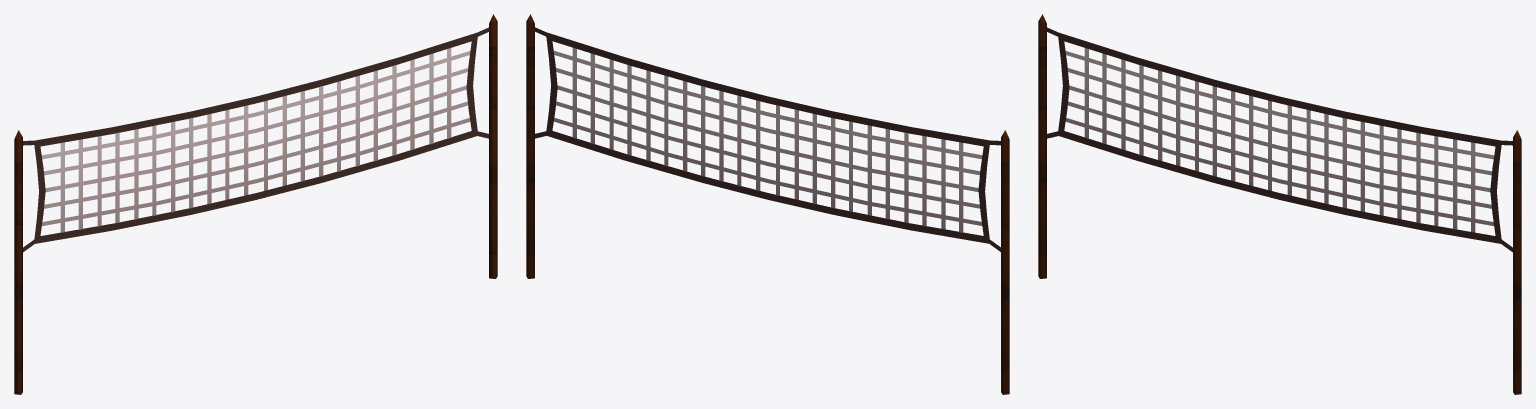
The model's file is BeachNet_01.FBX.
The picture shows the model from 3 angles, left to right: view 1: azimuth 30°, elevation 25°; view 2: azimuth 150°, elevation 25°; view 3: azimuth 330°, elevation 25°; orthographic projection.
Parts seen in each view (by area): view 1: BeachNet_01; view 2: BeachNet_01; view 3: BeachNet_01.
Part boxes in pixels (left/top/right/bottom): BeachNet_01: left=14, top=14, right=497, bottom=394; BeachNet_01: left=526, top=14, right=1009, bottom=394; BeachNet_01: left=1038, top=14, right=1521, bottom=394.
Size of the model in its own units: 4.42 by 0.0795 by 2.3.
